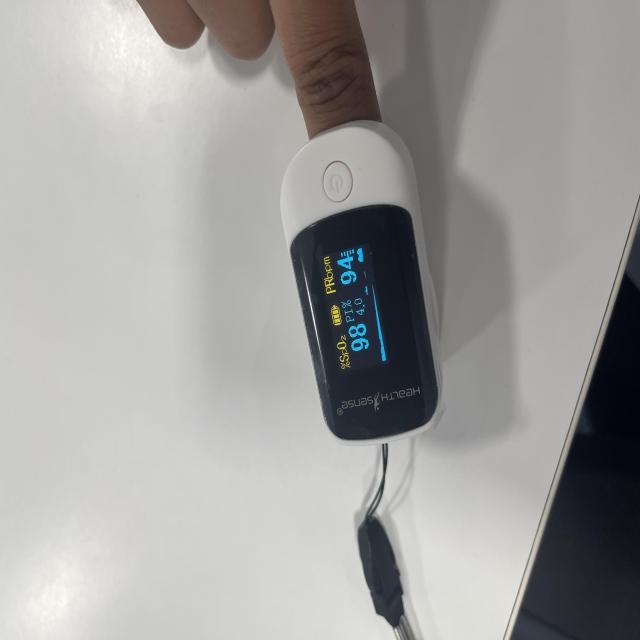spo2: (279, 120, 443, 446)
